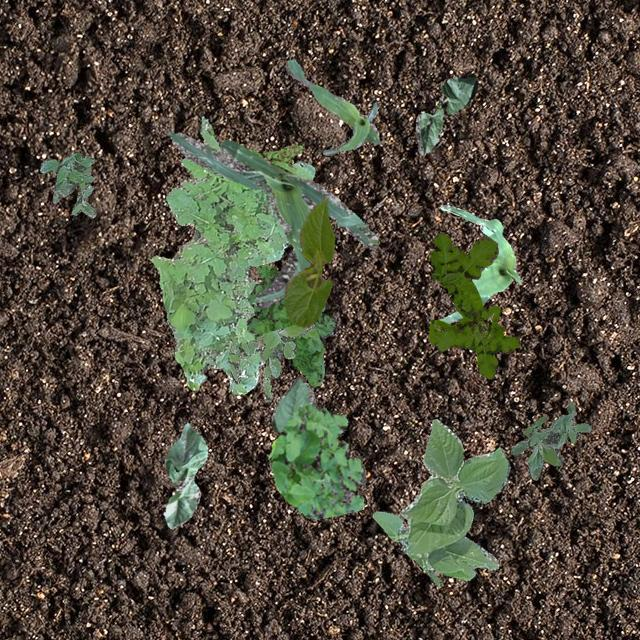crop: (168, 130, 376, 308), (372, 418, 509, 586), (438, 204, 522, 322), (284, 59, 378, 154), (284, 196, 334, 326), (414, 74, 476, 154), (162, 422, 206, 528), (270, 374, 314, 432)
weed: (148, 115, 314, 394), (428, 232, 518, 378), (268, 404, 366, 518), (246, 264, 336, 386), (225, 322, 312, 401), (510, 402, 590, 478), (40, 152, 94, 218), (248, 144, 302, 176)
